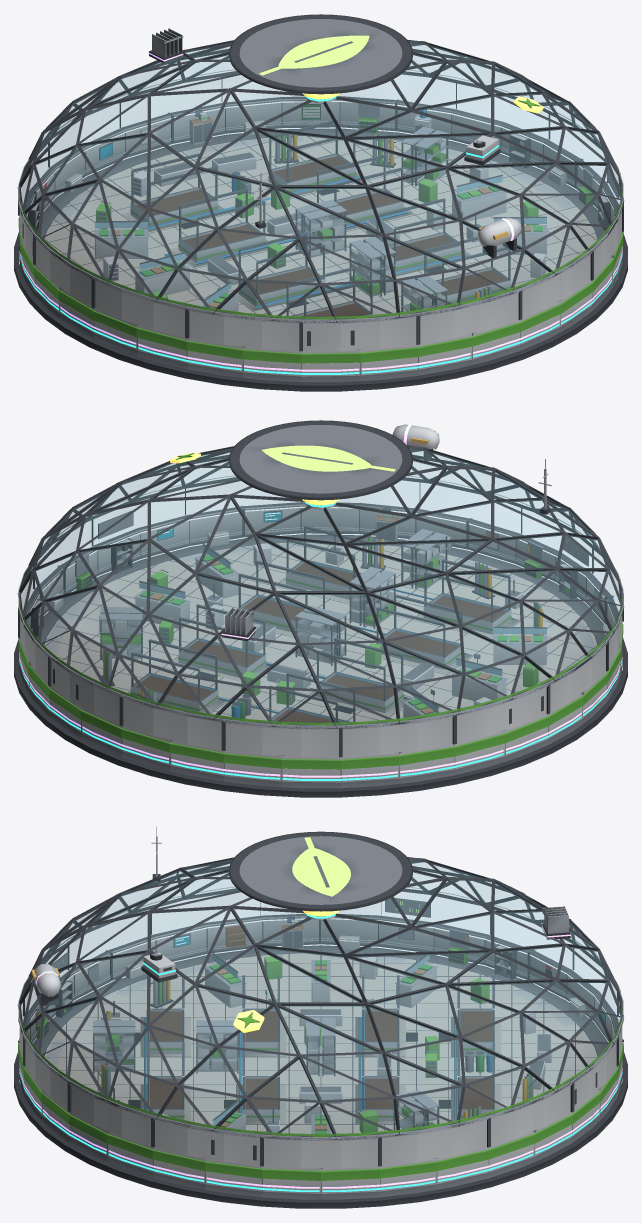
File: greenhouse_l_far.glb
3 renders of one model, top to bottom at view 1: azimuth 30°, elevation 25°; view 2: azimuth 150°, elevation 25°; view 3: azimuth 270°, elevation 25°, orthographic.
Visible parts, largest first — view 1: Roof, Base, Interior, L4, L2, L3; view 2: Roof, Base, Interior, L2, L4, L3; view 3: Roof, Base, Interior, L2, L4, L3, L5.
Boxes of the visible parts, <box> form: Roof: <box>17,14,624,351</box>; Base: <box>14,96,627,391</box>; Interior: <box>52,120,575,316</box>; L4: <box>19,28,622,371</box>; L2: <box>18,69,623,323</box>; L3: <box>19,95,622,374</box>; Roof: <box>17,420,624,757</box>; Base: <box>14,502,627,797</box>; Interior: <box>46,525,594,722</box>; L2: <box>18,459,623,729</box>; L4: <box>19,424,622,777</box>; L3: <box>19,501,622,780</box>; Roof: <box>17,831,623,1168</box>; Base: <box>14,914,627,1208</box>; Interior: <box>46,948,576,1134</box>; L2: <box>18,826,623,1140</box>; L4: <box>19,906,622,1188</box>; L3: <box>19,913,622,1191</box>; L5: <box>233,910,338,1032</box>.
Size of the model in its own units: 23.15 by 8.68 by 23.15.
